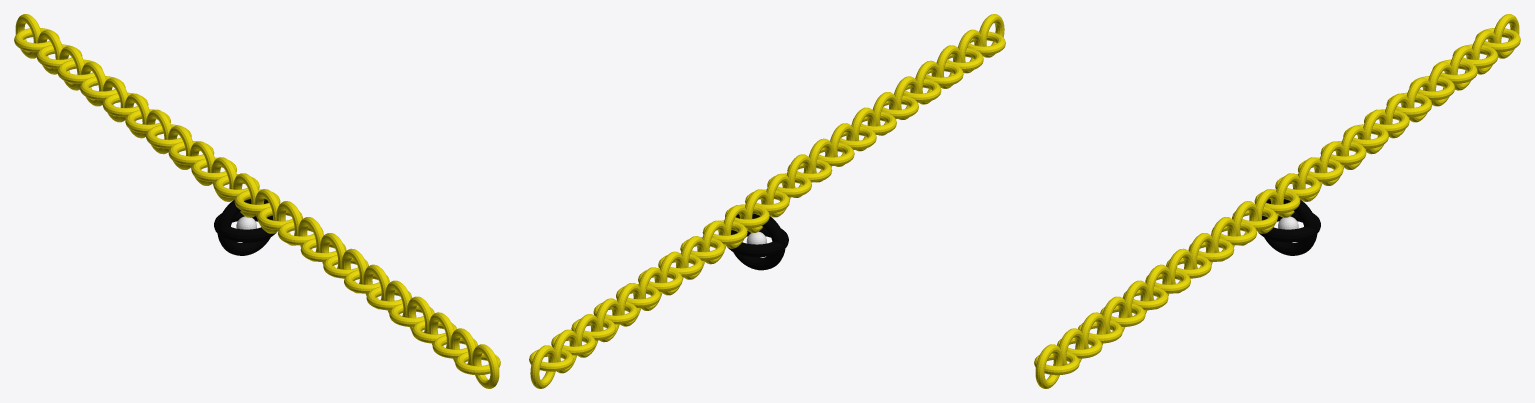
The model's file is Spark_necklace.fbx.
3 renders of one model, left to right at view 1: azimuth 30°, elevation 25°; view 2: azimuth 150°, elevation 25°; view 3: azimuth 330°, elevation 25°, orthographic. The views are drawn at different scales.
Parts seen in each view (by area): view 1: container, Torus.006, Torus.022, Torus.042, Torus.011, Torus.029, Torus.031, Torus.030, Torus.020, Torus.021, Torus.019, Torus.025 (+30 smaller); view 2: container, Torus.006, Torus.042, Torus.022, Torus.031, Torus.039, Torus.041, Torus.009, Torus.040, Torus.010, Torus.011, Torus.038 (+30 smaller); view 3: container, Torus.006, Torus.022, Torus.042, Torus.011, Torus.029, Torus.031, Torus.030, Torus.020, Torus.021, Torus.019, Torus.025 (+30 smaller).
Part boxes in pixels (x1,y1,x2,y2): container: (214, 199, 276, 255); Torus.006: (214, 173, 280, 217); Torus.022: (472, 344, 499, 388); Torus.042: (15, 14, 41, 58); Torus.011: (455, 352, 500, 375); Torus.029: (57, 59, 102, 83); Torus.031: (14, 28, 59, 52); Torus.030: (80, 76, 125, 100); Torus.020: (428, 312, 454, 349); Torus.021: (450, 328, 476, 365); Torus.019: (406, 296, 432, 333); Torus.025: (146, 124, 191, 148); container: (727, 213, 788, 270); Torus.006: (725, 189, 789, 232); Torus.042: (530, 345, 557, 388); Torus.022: (979, 14, 1004, 57); Torus.031: (529, 349, 573, 371); Torus.039: (596, 298, 621, 342); Torus.041: (553, 329, 578, 373); Torus.009: (924, 62, 963, 86); Torus.040: (574, 314, 599, 357); Torus.010: (903, 79, 941, 102); Torus.011: (967, 31, 1005, 55); Torus.038: (617, 283, 642, 326); container: (1258, 199, 1320, 255); Torus.006: (1254, 173, 1320, 217); Torus.022: (1035, 344, 1062, 388); Torus.042: (1493, 14, 1519, 58); Torus.011: (1034, 352, 1079, 375); Torus.029: (1432, 59, 1477, 83); Torus.031: (1475, 28, 1520, 52); Torus.030: (1409, 76, 1454, 100); Torus.020: (1080, 312, 1106, 349); Torus.021: (1058, 328, 1084, 365); Torus.019: (1102, 296, 1128, 333); Torus.025: (1343, 124, 1388, 148).
Bounding box in the file's own units: 250 × 353 × 3652.
